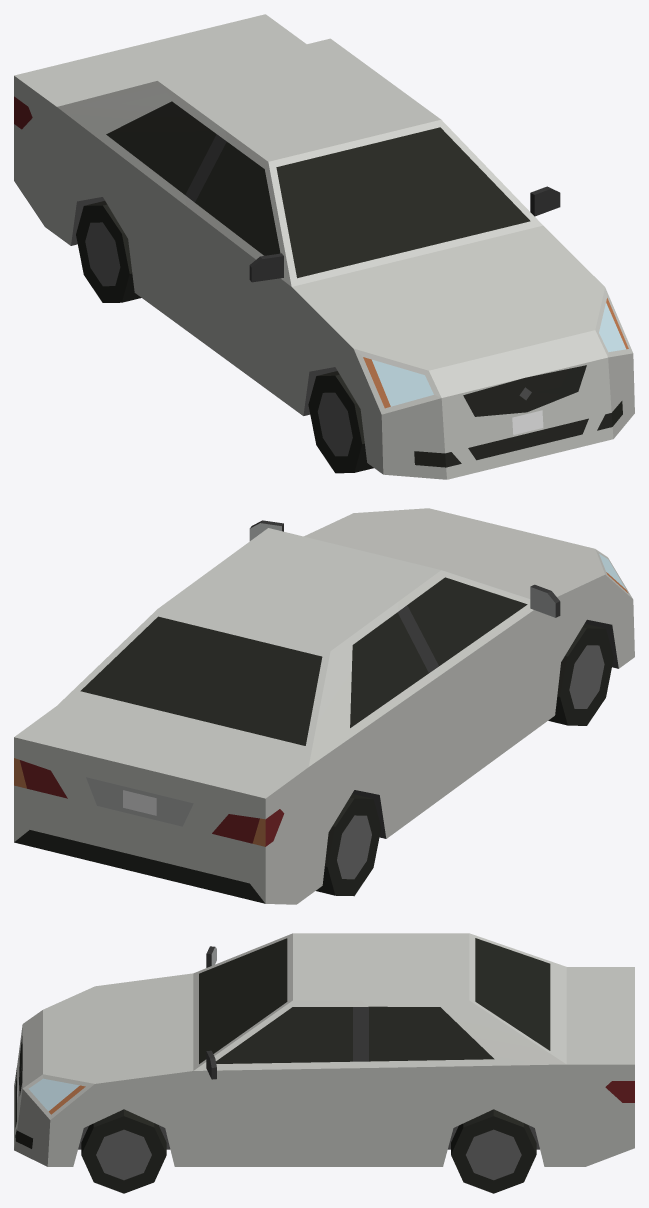
The model's file is Veh_Sedan_03_White.glb.
3 renders of one model, top to bottom at view 1: azimuth 30°, elevation 25°; view 2: azimuth 150°, elevation 25°; view 3: azimuth 270°, elevation 25°, orthographic. The views are drawn at different scales.
Visible parts, largest first — view 1: Sedan_03_White, Wheel_FR, Wheel_RR; view 2: Sedan_03_White, Wheel_FR, Wheel_RR; view 3: Sedan_03_White, Wheel_RL, Wheel_FL.
Part boxes in pixels (<box>): Sedan_03_White: <box>14,14,634,479</box>; Wheel_FR: <box>308,371,373,473</box>; Wheel_RR: <box>76,201,141,302</box>; Sedan_03_White: <box>14,508,634,904</box>; Wheel_FR: <box>548,623,613,725</box>; Wheel_RR: <box>316,793,381,896</box>; Sedan_03_White: <box>14,933,634,1166</box>; Wheel_RL: <box>451,1109,536,1193</box>; Wheel_FL: <box>81,1109,166,1193</box>.
Size of the model in its own units: 1.19 by 0.8272 by 2.61.
Materials: 1 (1 with a texture image).
